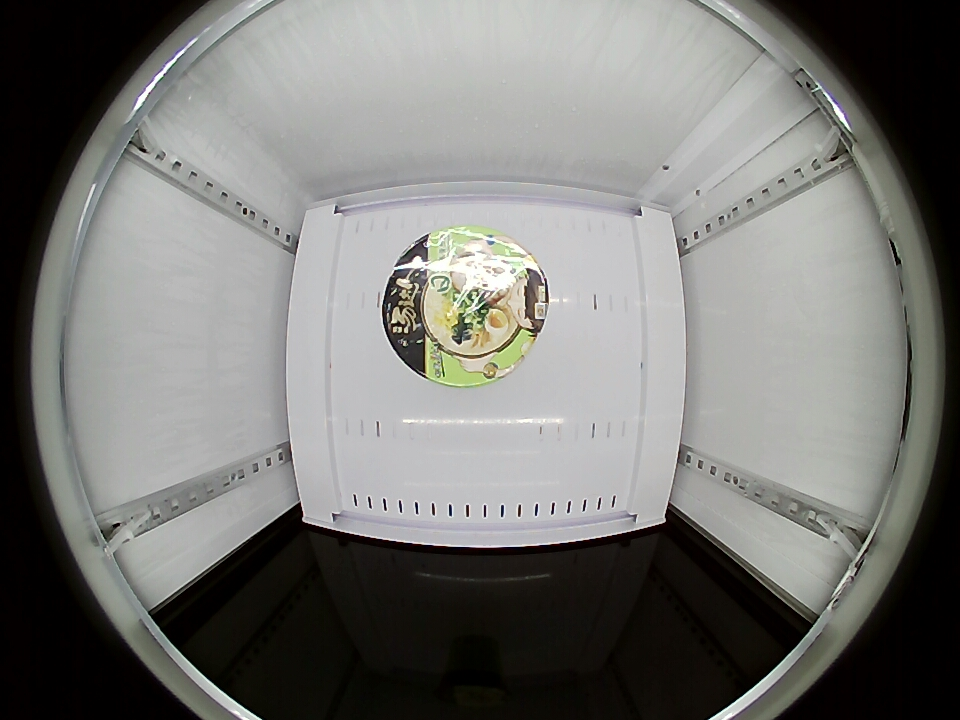tangdaren: (382, 226, 549, 387)
